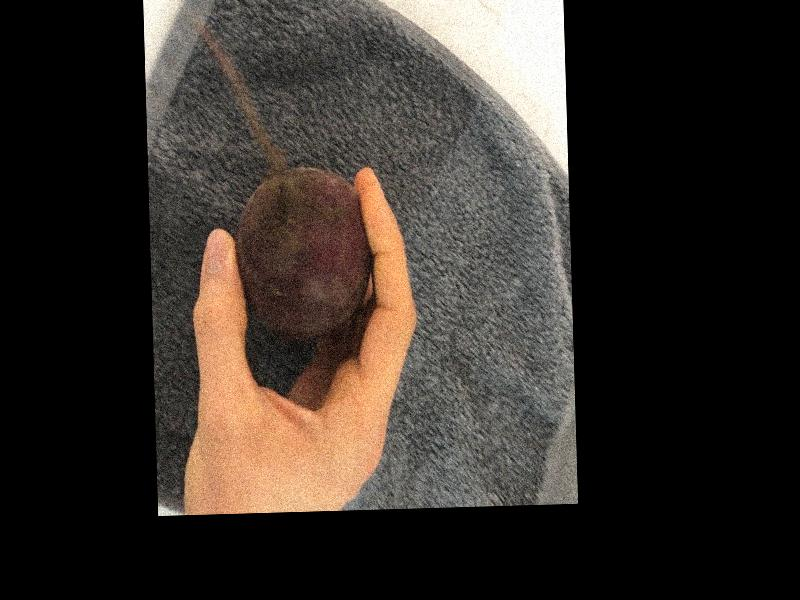Beet: (233, 167, 373, 342)
